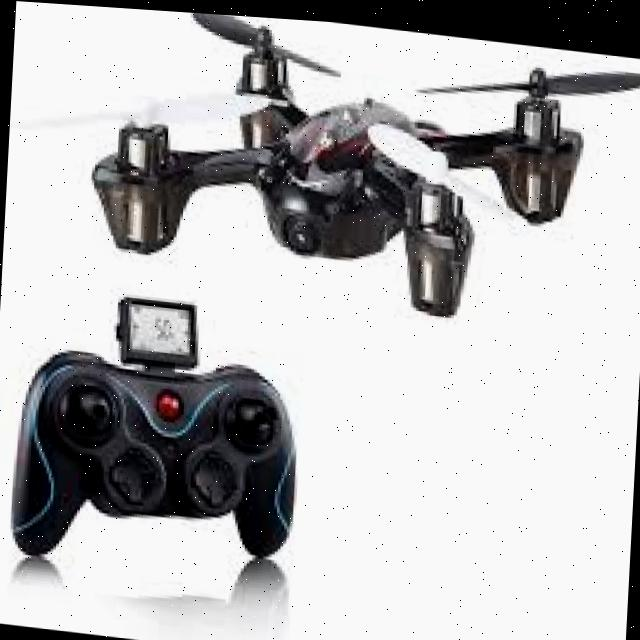drone: (47, 2, 629, 351)
